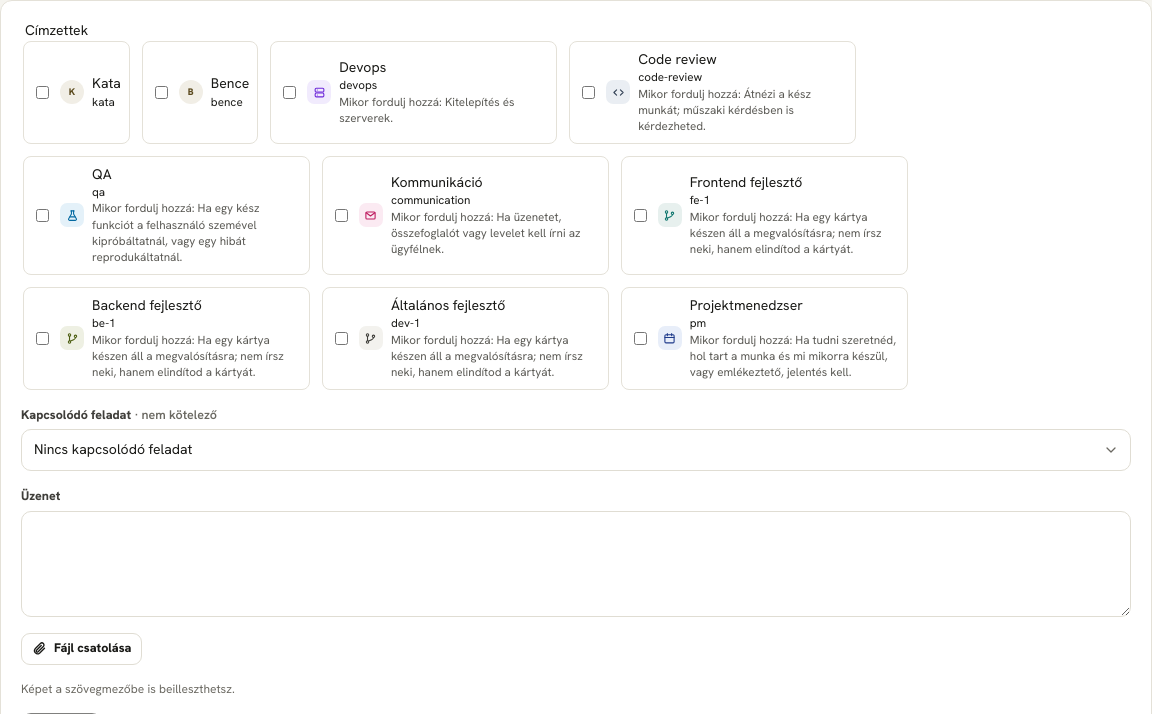
Scenario: the busy-card warning in the message form (PM-663) › warns about two same-role recipients on a card nobody works on, without a "working" list
Click the checkbox labelled "be-1" at (42, 338), box [36,332,49,345]
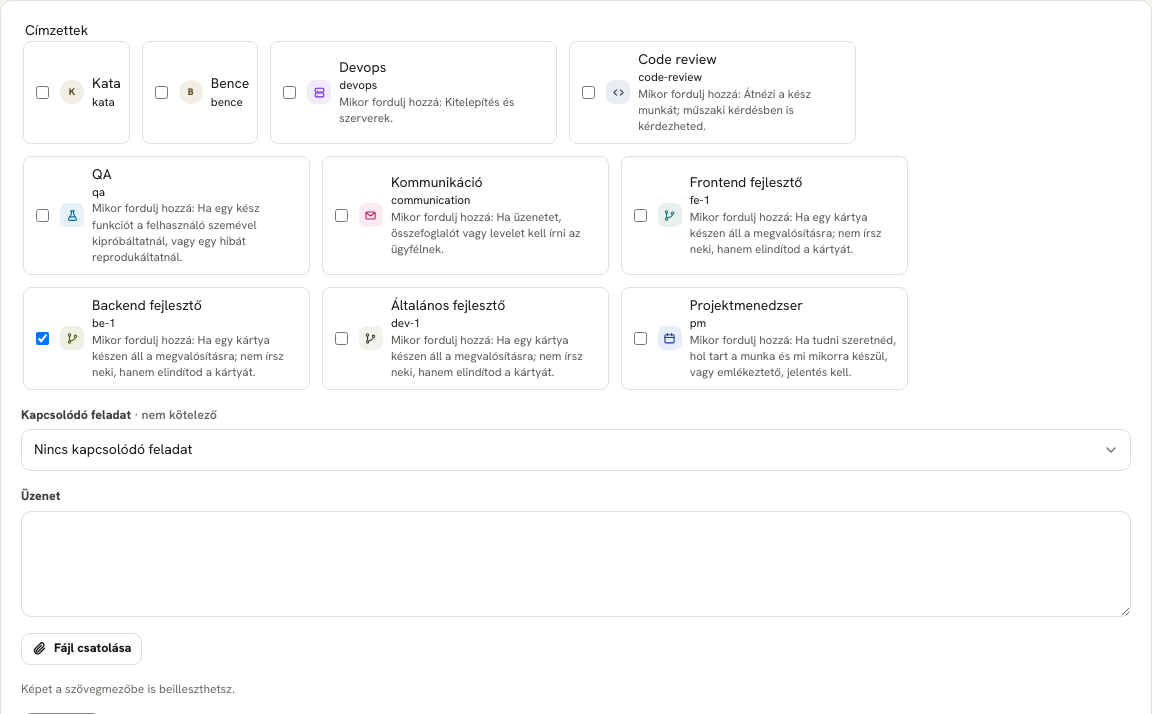
Click the checkbox labelled "fe-1" at (640, 215), box [634,209,647,222]
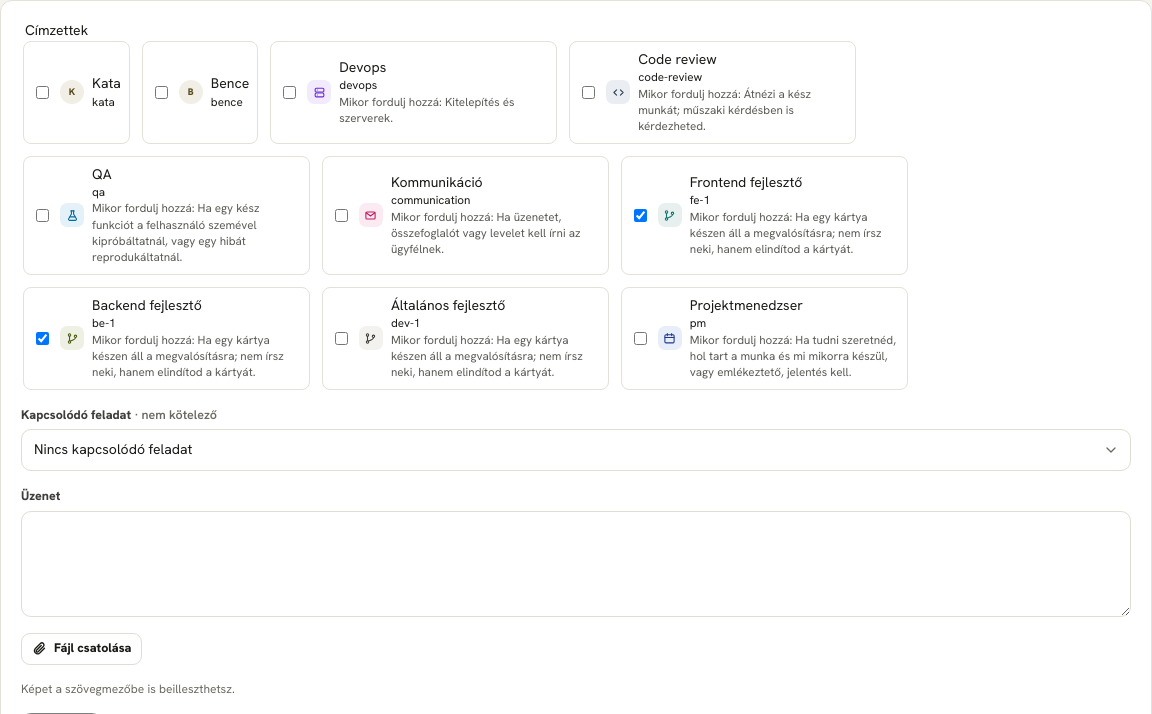
Select "AC-24 · Hibariasztás a fizetési hibákra" in the dropdown labelled "Kapcsolódó feladat · nem kötelező" at (576, 450), box [21,429,1131,471]
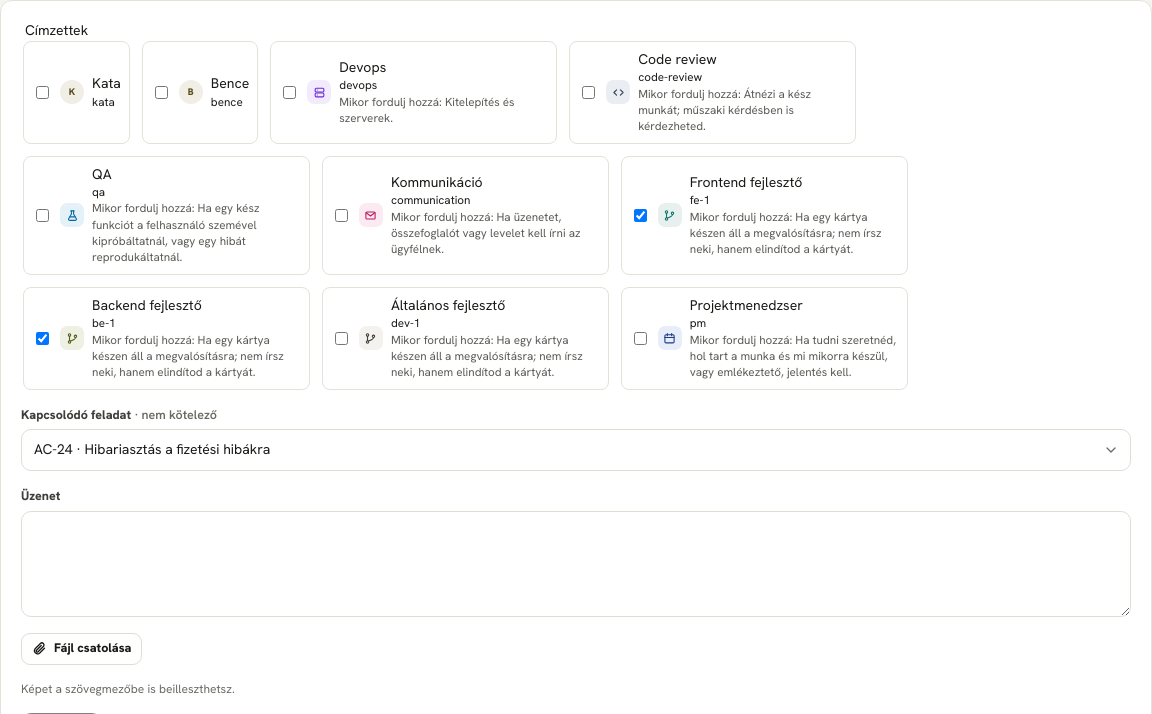
Type "Nézd meg ezt" into the text box labelled "Üzenet" at (576, 564), box [21,511,1131,617]
(page scrolled)
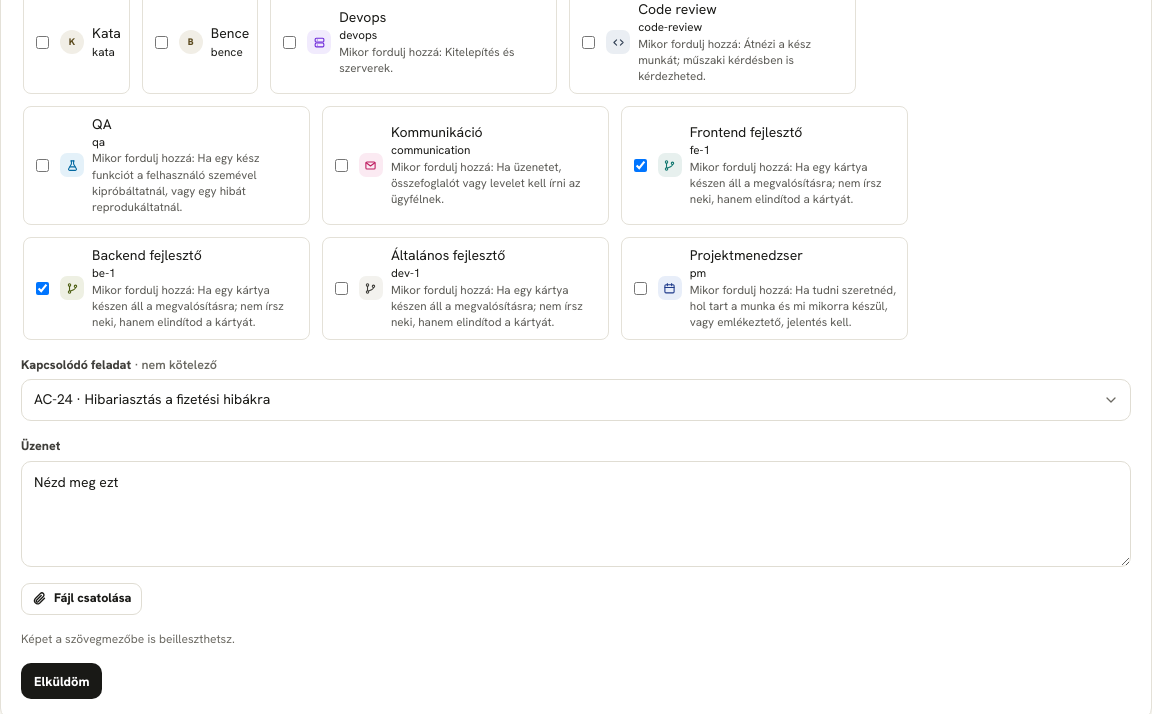
Click the button "Elküldöm" at (62, 681), box [21,663,102,699]
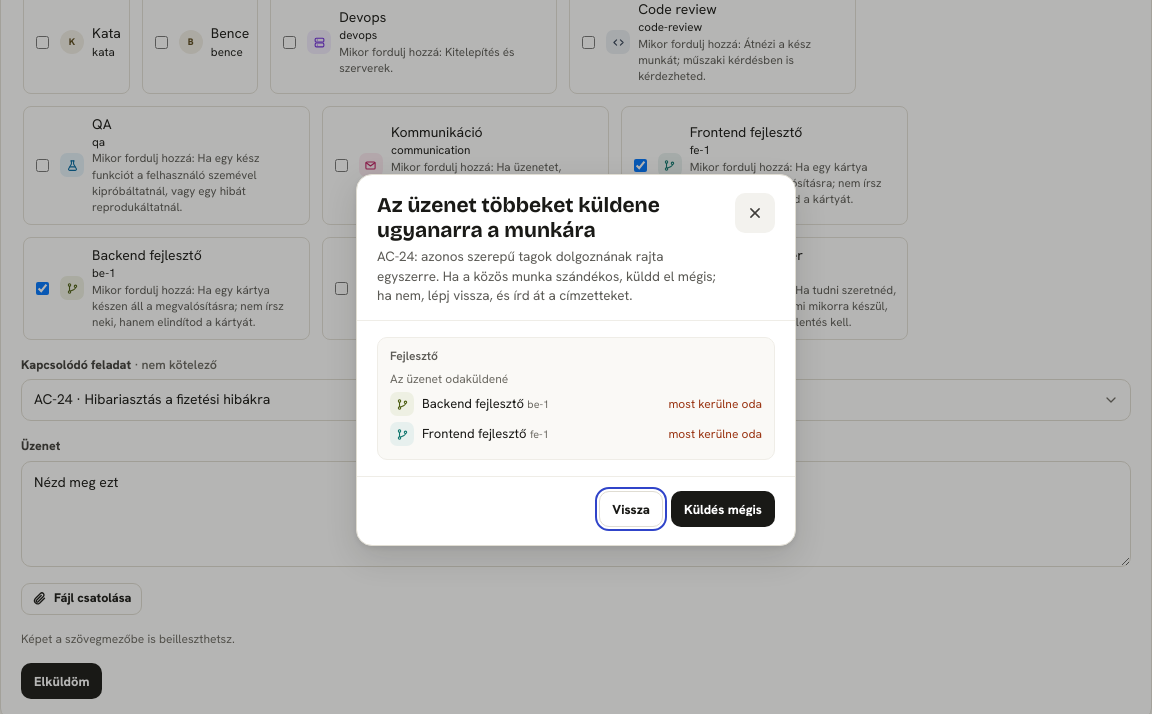
Expected: the text "most kerülne oda" is shown 2 times, [668,396,762,413]; [668,426,762,443]
